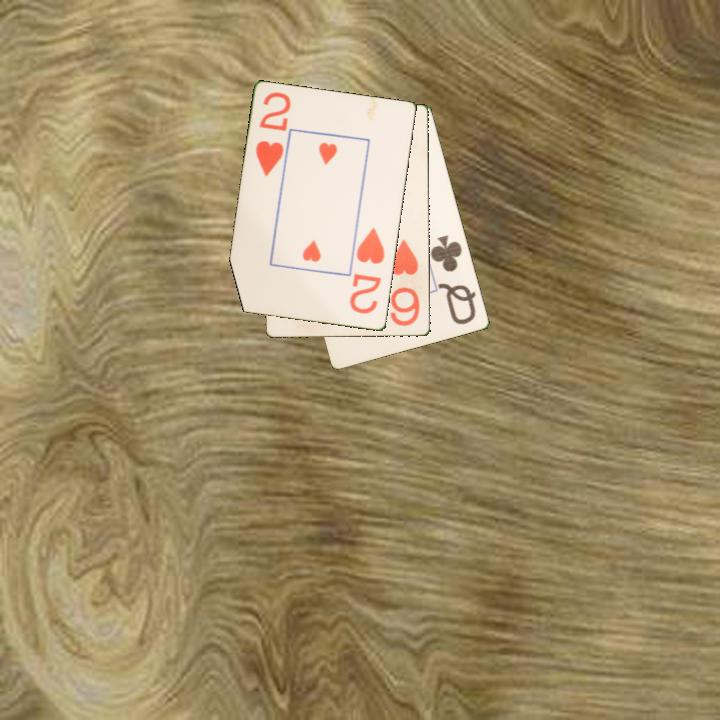2h: (346, 224, 388, 317), (252, 89, 294, 179)
6h: (388, 236, 425, 329)
Qc: (427, 231, 479, 328)
